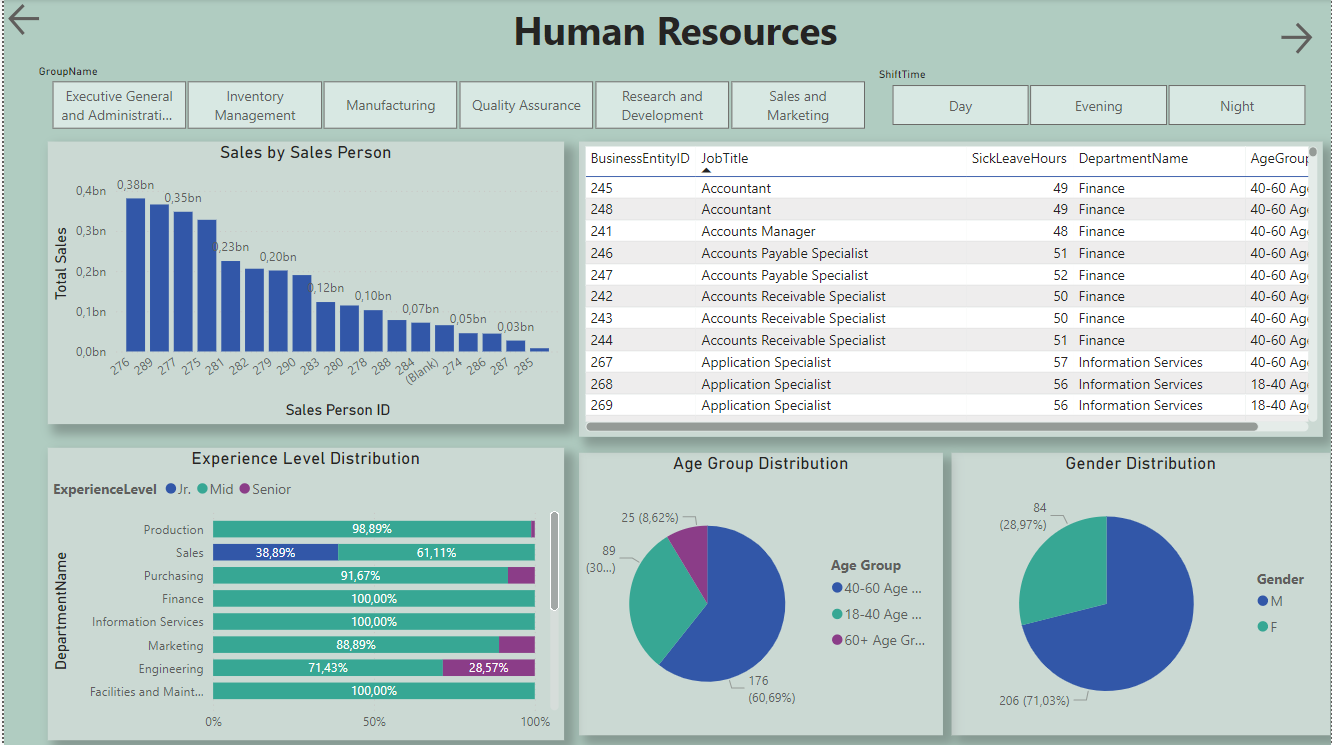

The page's visual inventory and layout, read from the dashboard file:
{"tool":"powerbi","page":{"name":"Human Resources","canvas":[1280,720],"ordinal":2},"visuals":[{"type":"actionButton","box":[1227,18.1,45.8,39.8],"z":0},{"type":"actionButton","box":[0,0,42.2,39.8],"z":1000},{"type":"pieChart","title":"Age Group Distribution","fields":{"Category":["HR.AgeGroup"],"Y":["CountNonNull(HR.AgeGroup)"]},"box":[555,437.9,351.1,272.7],"z":2000},{"type":"pieChart","title":"Gender Distribution","fields":{"Category":["HR.Gender"],"Y":["CountNonNull(HR.Gender)"]},"box":[914.5,437.9,365.6,272.7],"z":3000},{"type":"textbox","box":[485.8,0,345.8,74.1],"z":4000},{"type":"hundredPercentStackedBarChart","title":"Experience Level Distribution","fields":{"Category":["HR.DepartmentName"],"Y":["CountNonNull(HR.DepartmentName)"],"Series":["HR.ExperienceLevel"]},"box":[42.2,433.1,498.3,282.3],"z":5000},{"type":"slicer","fields":{"Values":["HR.GroupName"]},"box":[20.6,57.6,834.3,74.1],"z":6000},{"type":"slicer","fields":{"Values":["HR.ShiftTime"]},"box":[831.6,61.7,448.7,67.2],"z":7000},{"type":"clusteredColumnChart","title":"Sales by Sales Person","fields":{"Category":["HR.BusinessEntityID"],"Y":["Sum(Sales.TotalDue)"]},"box":[42.2,137.5,498.3,272.7],"z":8000},{"type":"tableEx","title":"Sales by Sales Person","fields":{"Values":["HR.BusinessEntityID","HR.JobTitle","HR.SickLeaveHours","HR.DepartmentName","HR.AgeGroup"]},"box":[555,137.5,717.8,284.7],"z":9000}]}

Visuals, with their boxes in screenshot pixels (x1, y1, x2, y2), scaled from the page's 1280x720 canvas onto the 1332x745 screenshot:
actionButton: box=[1277, 19, 1325, 60]
actionButton: box=[0, 0, 44, 41]
"Age Group Distribution" pieChart: box=[578, 453, 943, 735]
"Gender Distribution" pieChart: box=[952, 453, 1331, 735]
textbox: box=[506, 0, 865, 77]
"Experience Level Distribution" hundredPercentStackedBarChart: box=[44, 448, 562, 740]
slicer - HR.GroupName: box=[21, 60, 890, 136]
slicer - HR.ShiftTime: box=[865, 64, 1331, 133]
"Sales by Sales Person" clusteredColumnChart: box=[44, 142, 562, 424]
"Sales by Sales Person" tableEx: box=[578, 142, 1325, 437]
